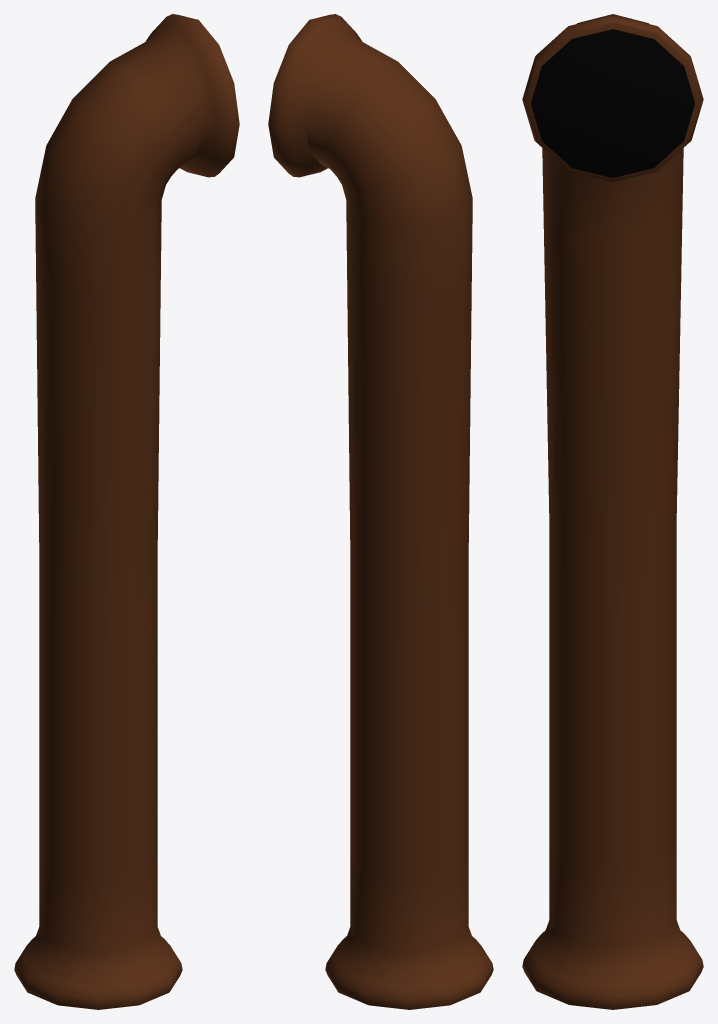
File: Pipe_Curve_05x05_4m.fbx
3 views of the same model, side by side, from view 1: azimuth 30°, elevation 25°; view 2: azimuth 150°, elevation 25°; view 3: azimuth 270°, elevation 25° (orthographic). The views are drawn at different scales.
Visible parts, largest first — view 1: Pipe_Curve_05x05_4m; view 2: Pipe_Curve_05x05_4m; view 3: Pipe_Curve_05x05_4m.
Boxes of the visible parts, <box> form: Pipe_Curve_05x05_4m: <box>14,14,239,1009</box>; Pipe_Curve_05x05_4m: <box>268,14,493,1009</box>; Pipe_Curve_05x05_4m: <box>522,14,703,1009</box>.
Bounding box in the file's own units: 85.53 × 436 × 71.06.
